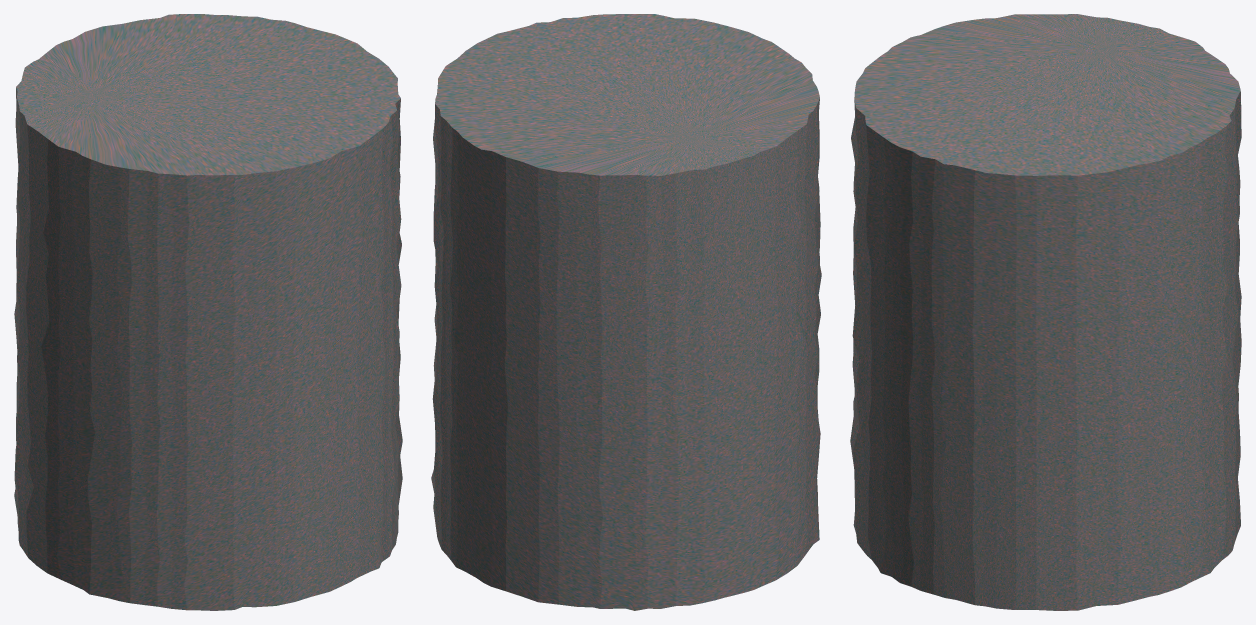
Rendered from barrel_41.dae.
3 renders of one model, left to right at view 1: azimuth 30°, elevation 25°; view 2: azimuth 150°, elevation 25°; view 3: azimuth 270°, elevation 25°, orthographic.
Visible parts, largest first — view 1: Cylinder; view 2: Cylinder; view 3: Cylinder.
Boxes of the visible parts, x1,y1,x2,y2 form: Cylinder: [14, 14, 402, 610]; Cylinder: [431, 14, 821, 610]; Cylinder: [850, 14, 1241, 610].
Size of the model in its own units: 0.8217 by 0.8157 by 1.
1 material, 1 textured.
